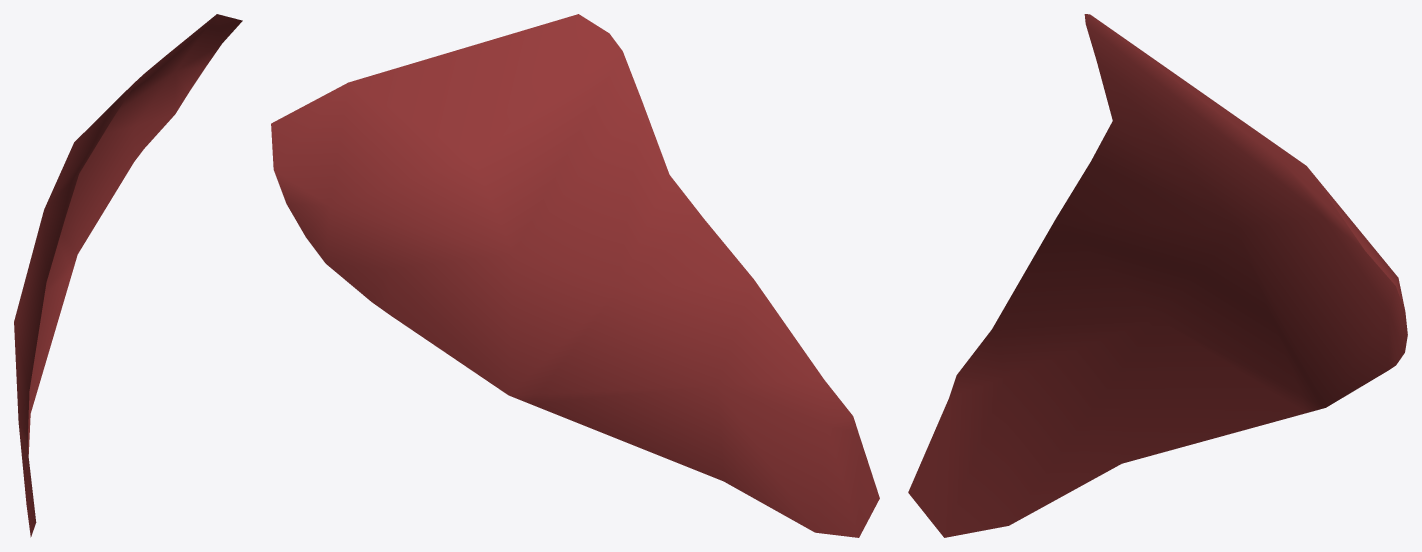
Rendered from gluteus-medius-muscle-er.glb.
3 views of the same model, side by side, from view 1: azimuth 30°, elevation 25°; view 2: azimuth 150°, elevation 25°; view 3: azimuth 270°, elevation 25° (orthographic). The views are drawn at different scales.
Visible parts, largest first — view 1: Gluteus medius muscle.er; view 2: Gluteus medius muscle.er; view 3: Gluteus medius muscle.er.
Part boxes in pixels (bbox=[...]): Gluteus medius muscle.er: bbox=[14, 14, 242, 537]; Gluteus medius muscle.er: bbox=[271, 14, 879, 537]; Gluteus medius muscle.er: bbox=[908, 14, 1407, 537].
Size of the model in its own units: 0.0242 by 0.0272 by 0.0185.
